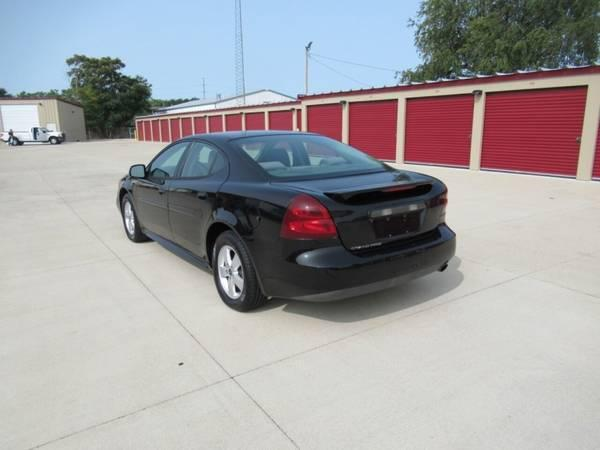Front_Left_Door: (133, 176, 173, 248)
Front_Left_Window: (144, 140, 198, 177)
Left_Taillight: (282, 193, 339, 242)
Rear_Bumper: (246, 225, 459, 303)
Rear_Fender: (209, 177, 306, 240)
Rear_Left_Door: (169, 171, 228, 267)
Rear_Left_Window: (177, 141, 231, 177)
Rear_Windshield: (228, 134, 391, 179)
Roof: (144, 130, 316, 181)
Tailgate: (276, 169, 447, 253)
Wheel: (210, 230, 259, 311), (120, 194, 141, 241)
